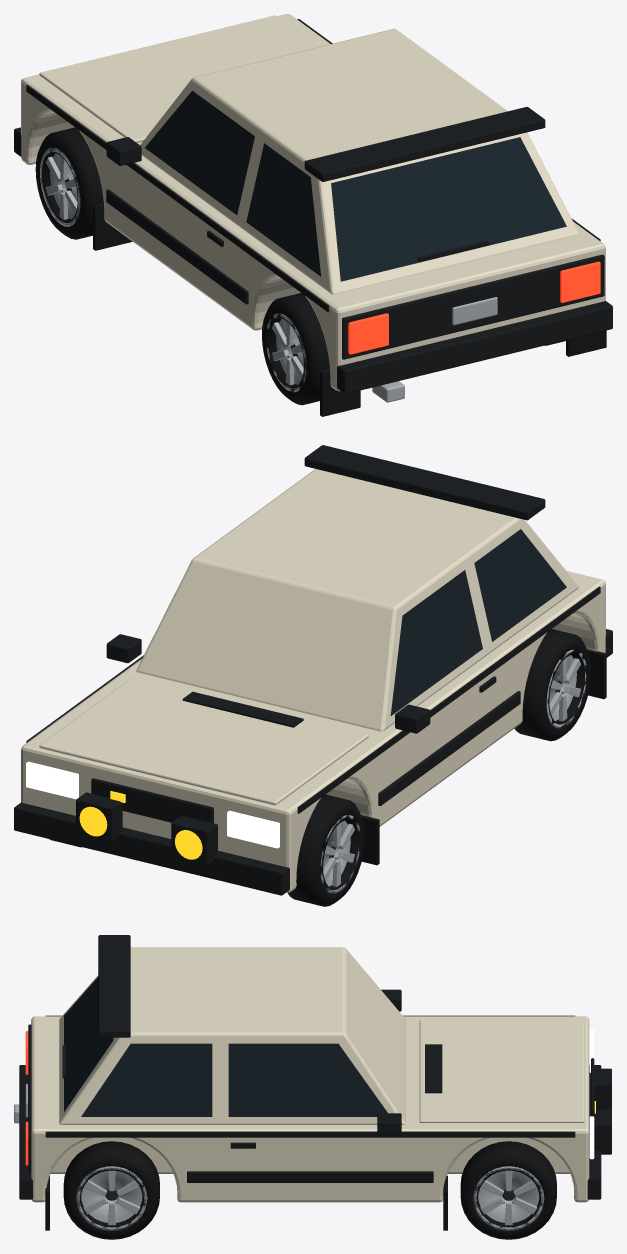
The model's file is ns-kestrel-01.glb.
3 renders of one model, top to bottom at view 1: azimuth 30°, elevation 25°; view 2: azimuth 150°, elevation 25°; view 3: azimuth 270°, elevation 25°, orthographic. The views are drawn at different scales.
Parts seen in each view (by area): view 1: hatch-cabin, coachwork, hatch-glass, bonnet, rear-bumper, tailgate-panel, door-glass-left, roof-spoiler, quarter-glass-left, tire-rear-left, tire-front-left, waist-stripe-left (+10 smaller); view 2: hatch-cabin, coachwork, bonnet, door-glass-left, front-bumper, roof-spoiler, quarter-glass-left, tire-front-left, tire-rear-left, front-grille, waist-stripe-left, door-rub-strip-left (+13 smaller); view 3: hatch-cabin, coachwork, bonnet, door-glass-right, quarter-glass-right, tire-front-right, tire-rear-right, waist-stripe-right, roof-spoiler, hatch-glass, door-rub-strip-right, rim-rear-right (+8 smaller).
Part boxes in pixels (bbox=[...]): hatch-cabin: bbox=[140, 28, 579, 294]; coachwork: bbox=[21, 14, 605, 391]; hatch-glass: bbox=[331, 137, 566, 281]; bonnet: bbox=[39, 15, 318, 142]; rear-bumper: bbox=[337, 301, 612, 393]; tailgate-panel: bbox=[342, 254, 604, 359]; door-glass-left: bbox=[145, 90, 254, 215]; roof-spoiler: bbox=[304, 107, 545, 181]; quarter-glass-left: bbox=[246, 143, 320, 276]; tire-rear-left: bbox=[262, 293, 329, 405]; tire-front-left: bbox=[35, 127, 103, 239]; waist-stripe-left: bbox=[26, 85, 329, 312]; hatch-cabin: bbox=[136, 469, 579, 731]; coachwork: bbox=[21, 571, 605, 892]; bonnet: bbox=[39, 677, 368, 805]; door-glass-left: bbox=[390, 570, 482, 715]; front-bumper: bbox=[14, 802, 289, 895]; roof-spoiler: bbox=[304, 445, 545, 520]; quarter-glass-left: bbox=[474, 529, 566, 641]; tire-front-left: bbox=[288, 794, 364, 906]; tire-rear-left: bbox=[514, 629, 591, 741]; front-grille: bbox=[91, 778, 213, 823]; waist-stripe-left: bbox=[297, 586, 600, 813]; door-rub-strip-left: bbox=[378, 691, 520, 805]; hatch-cabin: bbox=[59, 947, 405, 1124]; coachwork: bbox=[31, 1016, 589, 1202]; bonnet: bbox=[419, 1019, 584, 1122]; door-glass-right: bbox=[228, 1043, 387, 1116]; quarter-glass-right: bbox=[81, 1043, 212, 1116]; tire-front-right: bbox=[460, 1141, 556, 1239]; tire-rear-right: bbox=[63, 1141, 159, 1239]; waist-stripe-right: bbox=[45, 1131, 575, 1137]; roof-spoiler: bbox=[98, 935, 130, 1037]; hatch-glass: bbox=[64, 977, 113, 1111]; door-rub-strip-right: bbox=[187, 1171, 433, 1182]; rim-rear-right: bbox=[76, 1166, 147, 1230].
Bounding box in the file's own units: 2.35 × 1.64 × 4.47.
